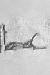E9: (5, 1, 45, 75)
